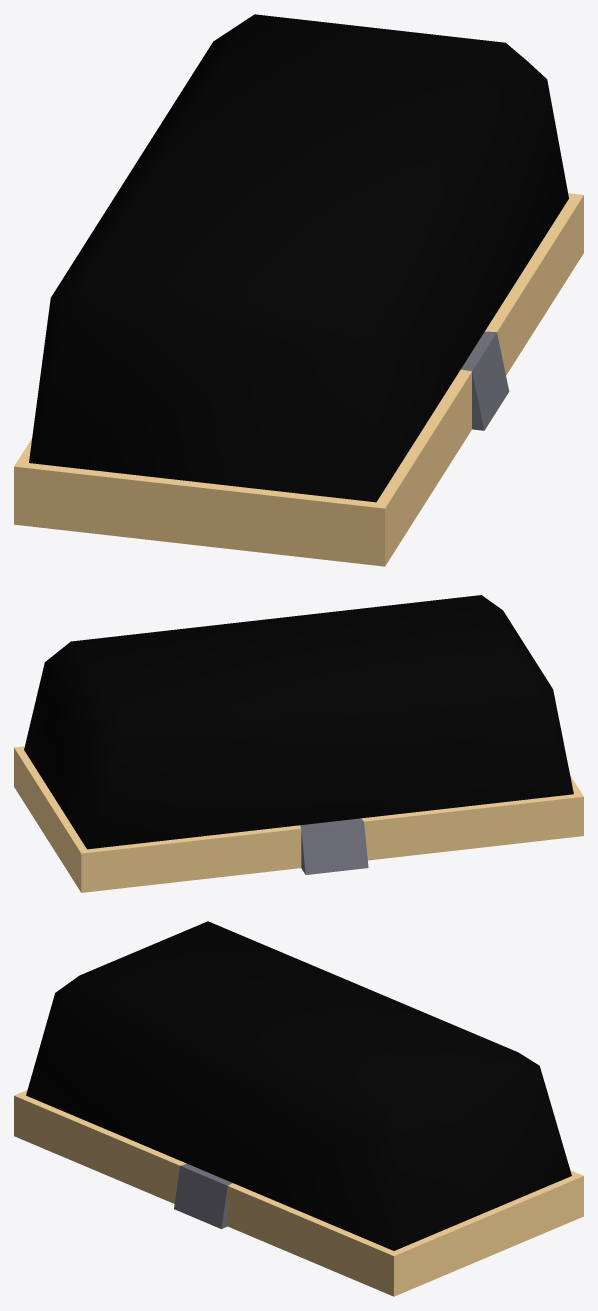
3 views of the same model, one above another, from view 1: azimuth 30°, elevation 25°; view 2: azimuth 150°, elevation 25°; view 3: azimuth 270°, elevation 25° (orthographic). The views are drawn at different scales.
Parts seen in each view (by area): view 1: Joint_0_Object_2, Joint_0_Object_0, Joint_0_Object_1; view 2: Joint_0_Object_2, Joint_0_Object_0, Joint_0_Object_1; view 3: Joint_0_Object_2, Joint_0_Object_0, Joint_0_Object_1.
Boxes of the visible parts, x1,y1,x2,y2 form: Joint_0_Object_2: (29, 14, 568, 502); Joint_0_Object_0: (14, 193, 583, 566); Joint_0_Object_1: (461, 331, 509, 430); Joint_0_Object_2: (24, 595, 573, 849); Joint_0_Object_0: (14, 746, 583, 892); Joint_0_Object_1: (300, 818, 368, 874); Joint_0_Object_2: (26, 921, 571, 1250); Joint_0_Object_0: (14, 1090, 583, 1296); Joint_0_Object_1: (174, 1163, 232, 1228).
Size of the model in its own units: 366 by 115 by 366.
3 materials, 1 textured.
